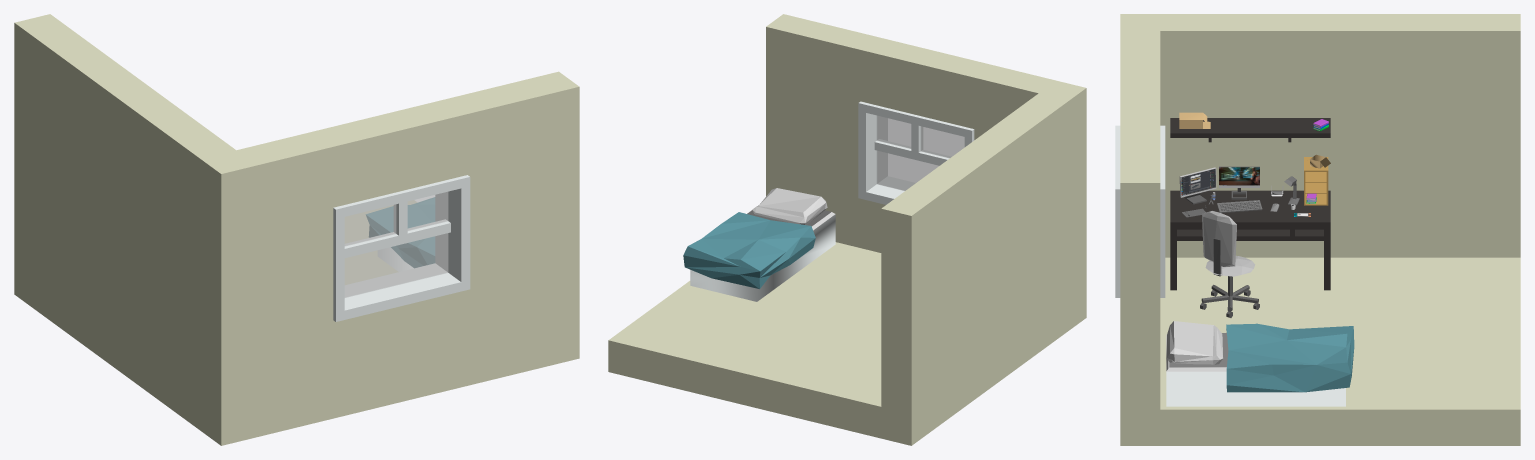
The model's file is mainroom.glb.
The picture shows the model from 3 angles, left to right: view 1: azimuth 30°, elevation 25°; view 2: azimuth 150°, elevation 25°; view 3: azimuth 270°, elevation 25°; orthographic projection. The views are drawn at different scales.
Parts seen in each view (by area): view 1: Room_2, Glass, Frame, Hole_2, Cube_1, Cube_13; view 2: Room_2, Cube_1, Glass, Cube, Frame, Hole_2, Cube_2, Cube_13; view 3: Room_2, Cube_1, Table_4, Cube, Table_1, Cube_2, Frame, Capsule, Table_2_2, Cube_3, Cube_4, Sphere (+2 smaller).
Boxes of the visible parts, box(x1,y1,x2,y2) form: Room_2: box(14, 14, 579, 445); Glass: box(344, 192, 448, 297); Frame: box(333, 175, 470, 321); Hole_2: box(344, 188, 461, 310); Cube_1: box(366, 197, 434, 267); Cube_13: box(344, 219, 450, 257); Room_2: box(608, 14, 1086, 445); Cube_1: box(683, 212, 815, 288); Glass: box(877, 115, 964, 190); Cube: box(690, 205, 835, 301); Frame: box(858, 101, 974, 204); Hole_2: box(866, 113, 915, 198); Cube_2: box(752, 188, 827, 224); Cube_13: box(874, 139, 951, 165); Room_2: box(1120, 14, 1520, 445); Cube_1: box(1226, 323, 1354, 392); Table_4: box(1170, 190, 1330, 290); Cube: box(1166, 333, 1345, 406); Table_1: box(1170, 118, 1330, 137); Cube_2: box(1167, 321, 1222, 364); Frame: box(1115, 125, 1165, 297); Capsule: box(1202, 211, 1236, 266); Table_2_2: box(1177, 229, 1323, 240); Cube_3: box(1219, 167, 1259, 185); Cube_4: box(1181, 169, 1215, 196); Sphere: box(1205, 255, 1255, 276).
Size of the model in its own units: 401 by 290 by 405.
Materials: 38 (3 with a texture image).
